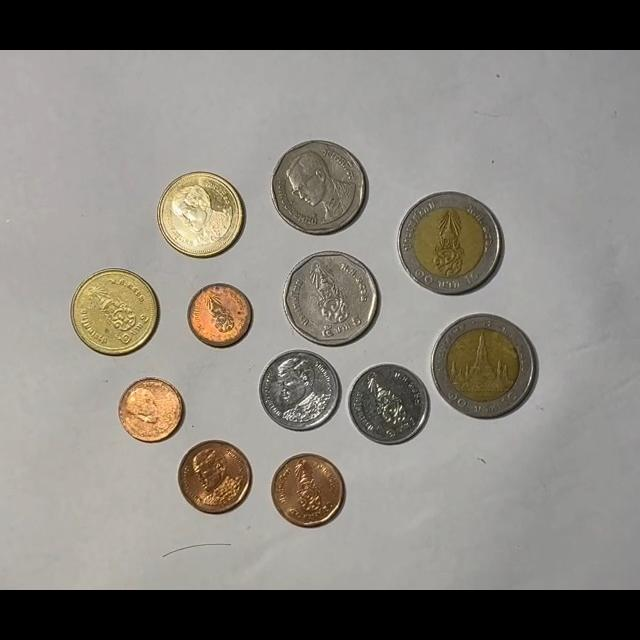1-baht: (347, 363, 430, 445), (259, 349, 340, 431)
10-baht: (431, 314, 537, 420), (397, 191, 503, 295)
2-baht: (71, 268, 159, 356), (157, 171, 245, 259)
25-satang: (119, 377, 185, 443), (187, 283, 253, 348)
5-baht: (271, 140, 368, 236), (283, 251, 380, 347)
50-satang: (178, 440, 253, 514), (271, 453, 345, 528)
